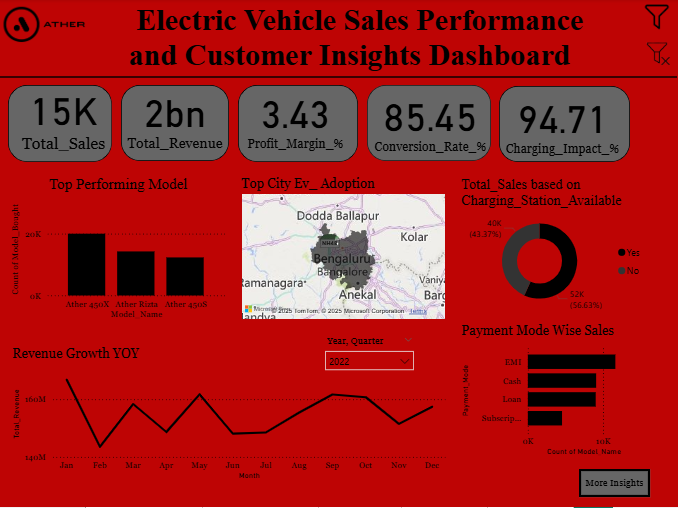

What the dashboard file says about the page in this screenshot:
{"tool":"powerbi","page":{"name":"EV Dashboard","canvas":[960,720],"ordinal":0},"visuals":[{"type":"textbox","box":[97.8,0,805,112],"z":0},{"type":"image","box":[0,0,60.9,72.3],"z":1000},{"type":"image","box":[0,0,181.4,72.3],"z":2000},{"type":"card","fields":{"Values":["Order_details.Total_Sales"]},"box":[21.3,112,137.5,107.7],"z":3000},{"type":"shape","box":[11.3,121.9,147.4,109.1],"z":4000},{"type":"card","fields":{"Values":["Order_details.Total_Revenue"]},"box":[171.5,112,153.1,107.7],"z":5000},{"type":"shape","box":[0,49.6,959.5,121.9],"z":6000},{"type":"shape","box":[171.5,121.9,153.1,107.7],"z":7000},{"type":"card","fields":{"Values":["Order_details.Profit_Margin_%"]},"box":[337.3,112,163,109.1],"z":8000},{"type":"shape","box":[337.3,121.9,170.1,109.1],"z":9000},{"type":"card","fields":{"Values":["Customer_details.Conversion_Rate_%"]},"box":[524.4,117.6,171.5,107.7],"z":10000},{"type":"shape","box":[520.2,121.9,175.7,107.7],"z":11000},{"type":"card","fields":{"Values":["Customer_details.Charging_Impact_%"]},"box":[707.2,112,180,123.3],"z":12000},{"type":"shape","box":[707.2,123.3,185.7,107.7],"z":13000},{"type":"columnChart","title":"Top Performing Model","fields":{"Category":["Order_details.Model_Name"],"Y":["CountNonNull(Other_details.Model_Bought)"]},"box":[11.3,250.9,313.2,208.3],"z":14000},{"type":"filledMap","title":"Top City Ev_ Adoption","fields":{"Category":["Order_details.City"]},"box":[337.3,250.9,297.6,208.3],"z":15000},{"type":"donutChart","title":"Total_Sales based on Charging_Station_Available","fields":{"Category":["Other_details.Charging_Station_Available"],"Y":["Order_details.Total_Sales"]},"box":[649.1,250.9,272.1,197],"z":16000},{"type":"clusteredBarChart","title":"Payment Mode Wise Sales","fields":{"Category":["Customer_details.Payment_Mode"],"Y":["CountNonNull(Order_details.Model_Name)"]},"box":[649.1,459.2,275,192.8],"z":17000},{"type":"lineChart","title":"Revenue Growth YOY","fields":{"Y":["Order_details.Total_Revenue"],"Category":["Order_details.Month"]},"box":[12.8,491.8,623.6,194.2],"z":18000},{"type":"slicer","fields":{"Values":["DateTable.Year","Order_details.Quarter"]},"box":[450.7,472,146,58.1],"z":19000},{"type":"image","box":[908.5,1.4,45.4,48.2],"z":20000},{"type":"image","box":[908.5,46.8,51,63.8],"z":21000},{"type":"actionButton","box":[820.6,666.1,100.6,39.7],"z":22000}]}

Visuals, with their boxes in screenshot pixels (x1, y1, x2, y2), scaled from the page's 960x720 canvas onto the 678x508 screenshot:
textbox: rect(69, 0, 638, 79)
image: rect(0, 0, 43, 51)
image: rect(0, 0, 128, 51)
card - Order_details.Total_Sales: rect(15, 79, 112, 155)
shape: rect(8, 86, 112, 163)
card - Order_details.Total_Revenue: rect(121, 79, 229, 155)
shape: rect(0, 35, 677, 121)
shape: rect(121, 86, 229, 162)
card - Order_details.Profit_Margin_%: rect(238, 79, 353, 156)
shape: rect(238, 86, 358, 163)
card - Customer_details.Conversion_Rate_%: rect(370, 83, 491, 159)
shape: rect(367, 86, 491, 162)
card - Customer_details.Charging_Impact_%: rect(499, 79, 627, 166)
shape: rect(499, 87, 631, 163)
"Top Performing Model" columnChart: rect(8, 177, 229, 324)
"Top City Ev_ Adoption" filledMap: rect(238, 177, 448, 324)
"Total_Sales based on Charging_Station_Available" donutChart: rect(458, 177, 651, 316)
"Payment Mode Wise Sales" clusteredBarChart: rect(458, 324, 653, 460)
"Revenue Growth YOY" lineChart: rect(9, 347, 449, 484)
slicer - DateTable.Year x Order_details.Quarter: rect(318, 333, 421, 374)
image: rect(642, 1, 674, 35)
image: rect(642, 33, 677, 78)
actionButton: rect(580, 470, 651, 498)
